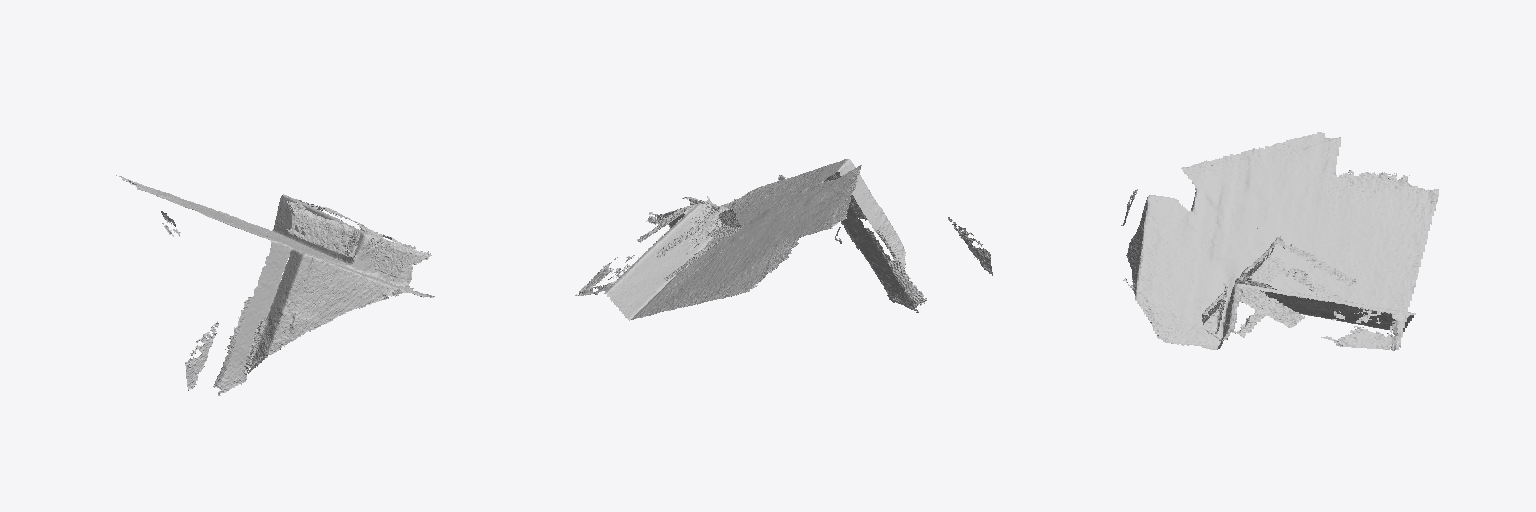
Rendered from wallStudio.obj.
The picture shows the model from 3 angles: view 1: azimuth 30°, elevation 25°; view 2: azimuth 150°, elevation 25°; view 3: azimuth 270°, elevation 25°; orthographic projection.
Bounding box in the file's own units: 1990 × 990 × 1872.